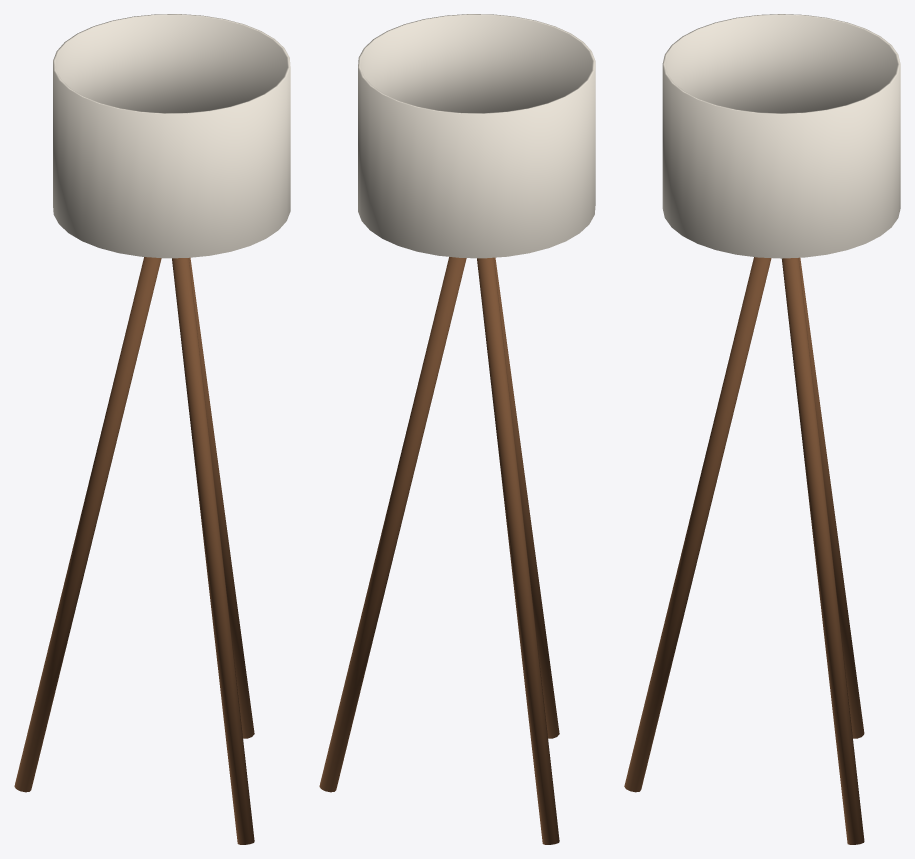
File: lampFloorTripod.glb
3 views of the same model, side by side, from view 1: azimuth 30°, elevation 25°; view 2: azimuth 150°, elevation 25°; view 3: azimuth 270°, elevation 25° (orthographic).
Parts seen in each view (by area): view 1: lampFloorTripod; view 2: lampFloorTripod; view 3: lampFloorTripod.
Boxes of the visible parts, <box> form: lampFloorTripod: <box>14,14,290,844</box>; lampFloorTripod: <box>319,14,595,844</box>; lampFloorTripod: <box>624,14,900,844</box>.
Size of the model in its own units: 0.5538 by 1.61 by 0.5571.
